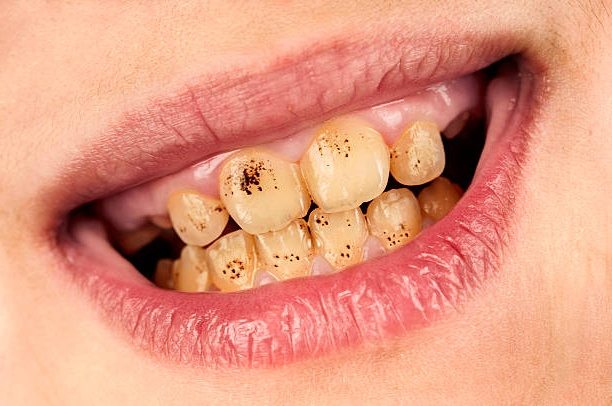Tooth Discoloration: (167, 115, 445, 251), (175, 193, 422, 292)
